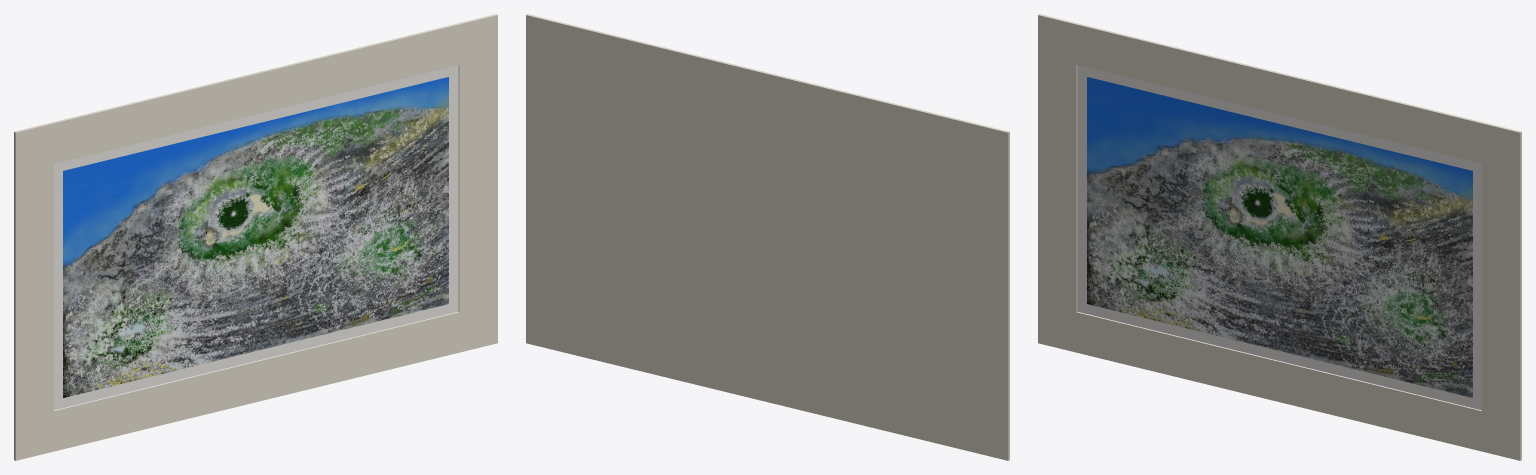
The model's file is hz066_moyen_passe-partout.glb.
The picture shows the model from 3 angles, left to right: view 1: azimuth 30°, elevation 25°; view 2: azimuth 150°, elevation 25°; view 3: azimuth 330°, elevation 25°; orthographic projection.
Parts seen in each view (by area): view 1: hz066_moyen_passe-partout; view 2: hz066_moyen_passe-partout; view 3: hz066_moyen_passe-partout.
Part boxes in pixels (x1,y1,x2,y2): hz066_moyen_passe-partout: (14, 14, 497, 460); hz066_moyen_passe-partout: (526, 14, 1009, 460); hz066_moyen_passe-partout: (1038, 14, 1521, 460).
Bounding box in the file's own units: 1 × 0.65 × 0.0055.
4 materials, 1 textured.
